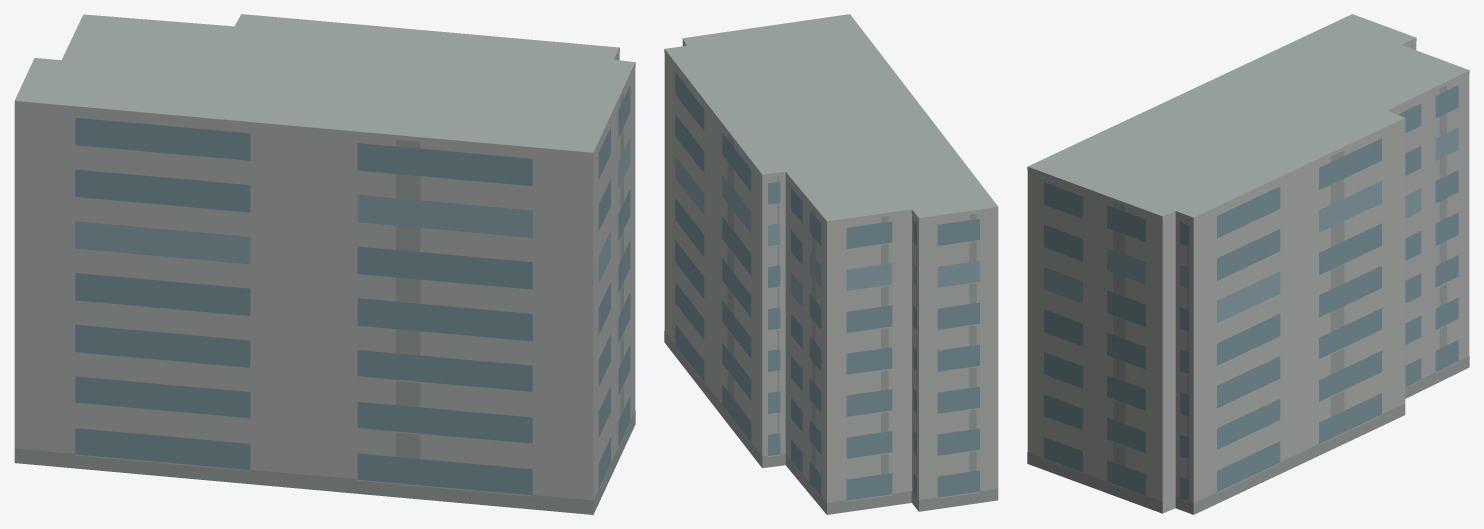
The model's file is survey-upis-32568509.glb.
3 views of the same model, side by side, from view 1: azimuth 30°, elevation 25°; view 2: azimuth 150°, elevation 25°; view 3: azimuth 270°, elevation 25° (orthographic). The views are drawn at different scales.
Parts seen in each view (by area): view 1: survey-upis-32568509.tmp; view 2: survey-upis-32568509.tmp; view 3: survey-upis-32568509.tmp.
Part boxes in pixels (x1,y1,x2,y2): survey-upis-32568509.tmp: (14,14,635,514); survey-upis-32568509.tmp: (664,14,998,514); survey-upis-32568509.tmp: (1027,14,1469,514).
Size of the model in its own units: 28.37 by 19.3 by 26.02.
